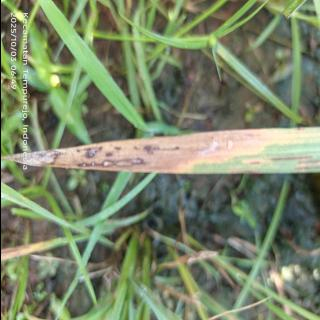Hawar-Daun: (31, 128, 319, 173)
